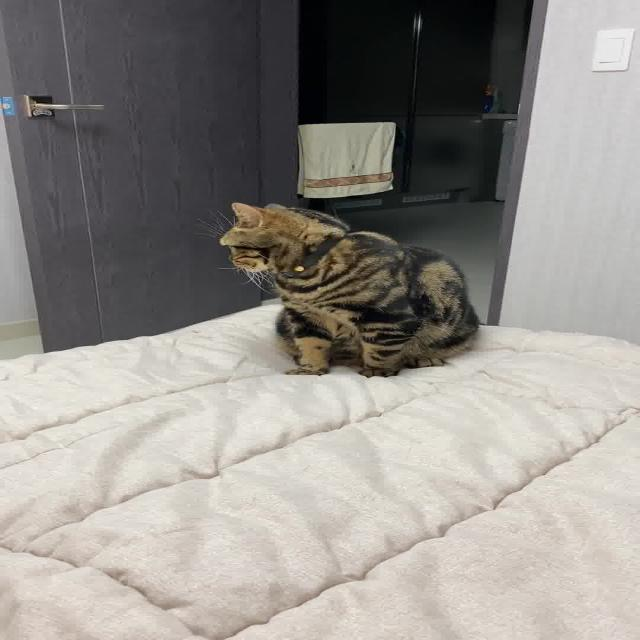cat: (185, 194, 492, 382)
